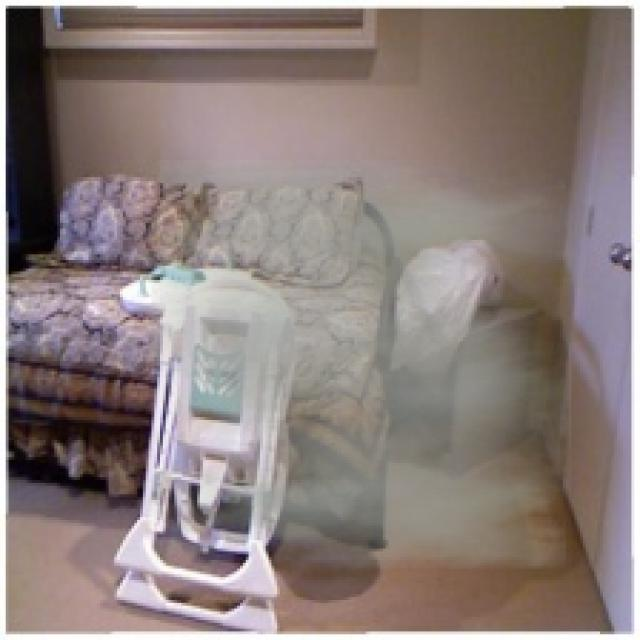smoke: (152, 160, 572, 569)
